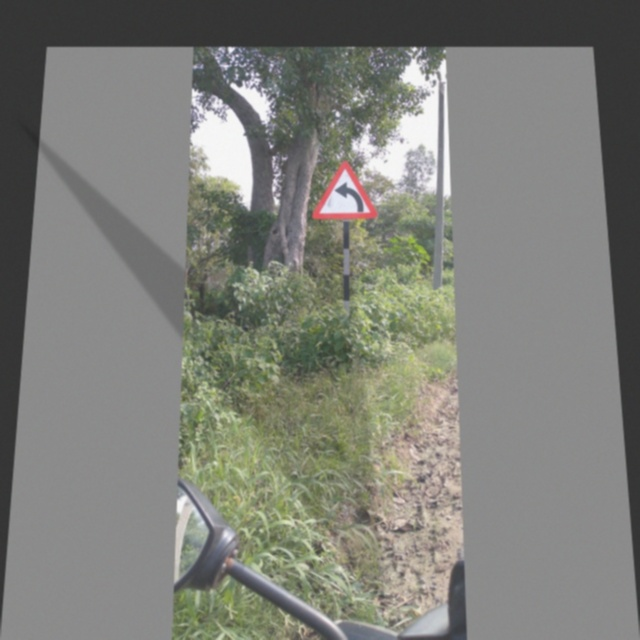Left_Hand_Curve: (308, 156, 378, 223)
